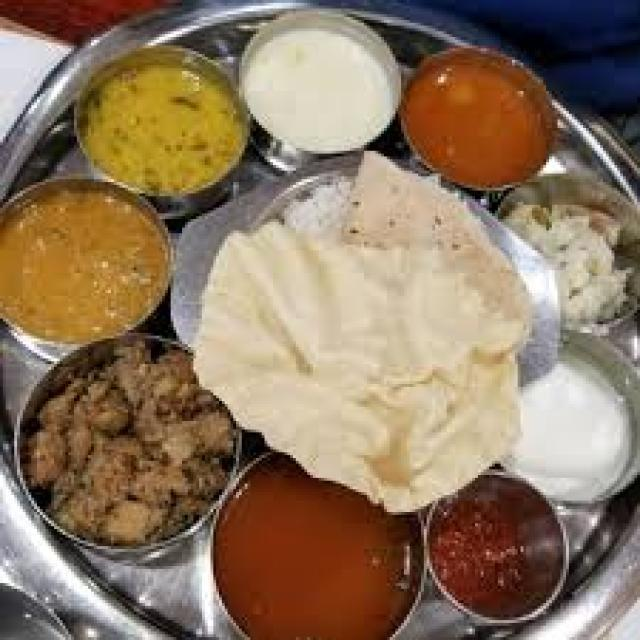curd: (509, 356, 640, 508)
dal: (235, 14, 407, 168), (395, 52, 565, 192), (83, 51, 240, 193)
roti: (16, 341, 225, 541)
sambar-rasam: (216, 470, 425, 640)
